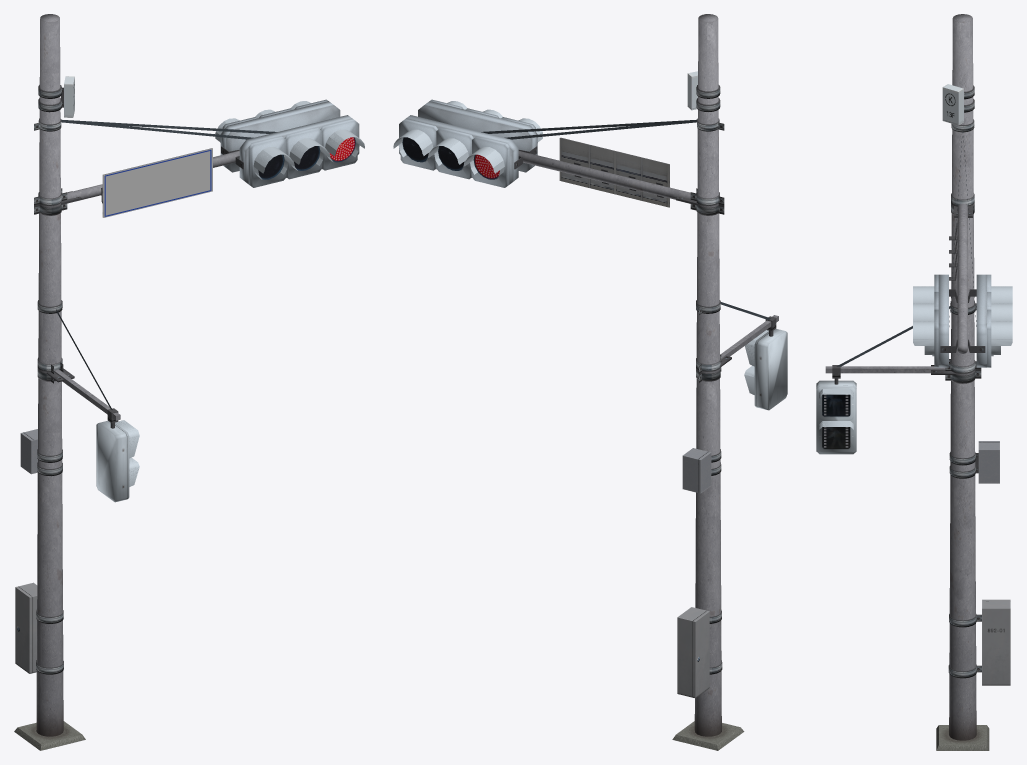
The model's file is Traffic_light_Auto_2_Ped_town.fbx.
3 renders of one model, left to right at view 1: azimuth 30°, elevation 25°; view 2: azimuth 150°, elevation 25°; view 3: azimuth 270°, elevation 25°, orthographic.
Parts seen in each view (by area): view 1: 00_pillar, 30_Auto_light, 50_town_name, 40_Ped_light, 35_Auto_light_2, 80_box_L, 85_box_S, 86_box_SS, 20_Auto_latch_bar, 10_Auto_bar; view 2: 00_pillar, 35_Auto_light_2, 40_Ped_light, 50_town_name, 30_Auto_light, 80_box_L, 10_Auto_bar, 85_box_S, 86_box_SS, 20_Auto_latch_bar; view 3: 00_pillar, 40_Ped_light, 35_Auto_light_2, 80_box_L, 30_Auto_light, 10_Auto_bar, 85_box_S, 86_box_SS, 70_light_Ped_red, 72_light_Ped_green.
Boxes of the visible parts, x1,y1,x2,y2 form: 00_pillar: (14, 14, 85, 750); 30_Auto_light: (61, 115, 364, 187); 50_town_name: (101, 148, 212, 217); 40_Ped_light: (37, 300, 139, 502); 35_Auto_light_2: (61, 99, 340, 172); 80_box_L: (15, 582, 63, 674); 85_box_S: (20, 429, 62, 476); 86_box_SS: (38, 76, 74, 117); 20_Auto_latch_bar: (34, 188, 81, 215); 10_Auto_bar: (67, 150, 239, 199); 00_pillar: (672, 14, 744, 750); 35_Auto_light_2: (393, 115, 696, 187); 40_Ped_light: (696, 300, 787, 410); 50_town_name: (559, 137, 669, 207); 30_Auto_light: (418, 99, 696, 172); 80_box_L: (677, 607, 722, 698); 10_Auto_bar: (518, 151, 690, 199); 85_box_S: (682, 448, 721, 493); 86_box_SS: (687, 71, 720, 111); 20_Auto_latch_bar: (676, 188, 724, 215); 00_pillar: (936, 14, 989, 750); 40_Ped_light: (816, 301, 981, 454); 35_Auto_light_2: (963, 131, 1012, 367); 80_box_L: (948, 599, 1010, 685); 30_Auto_light: (913, 131, 962, 367); 10_Auto_bar: (957, 203, 967, 353); 85_box_S: (949, 441, 999, 483); 86_box_SS: (942, 84, 974, 125); 70_light_Ped_red: (822, 394, 850, 416); 72_light_Ped_green: (822, 427, 850, 448).
Bounding box in the file's own units: 3.51 × 7.5 × 1.85.
